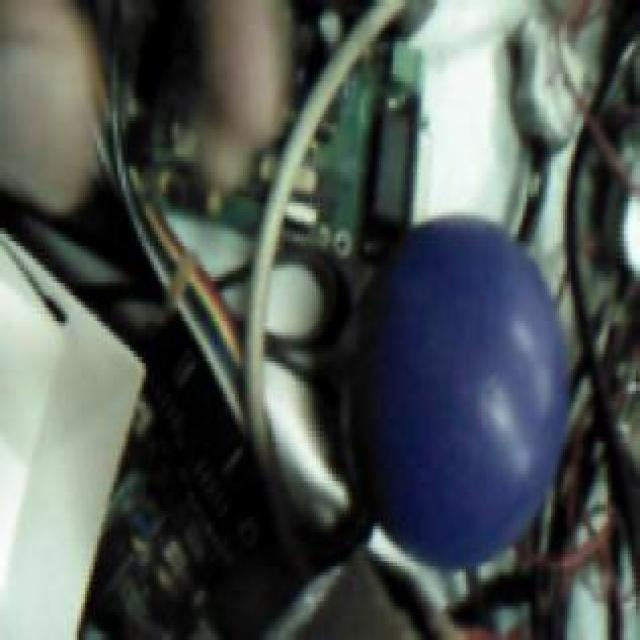BallPurple: (352, 214, 569, 570)
